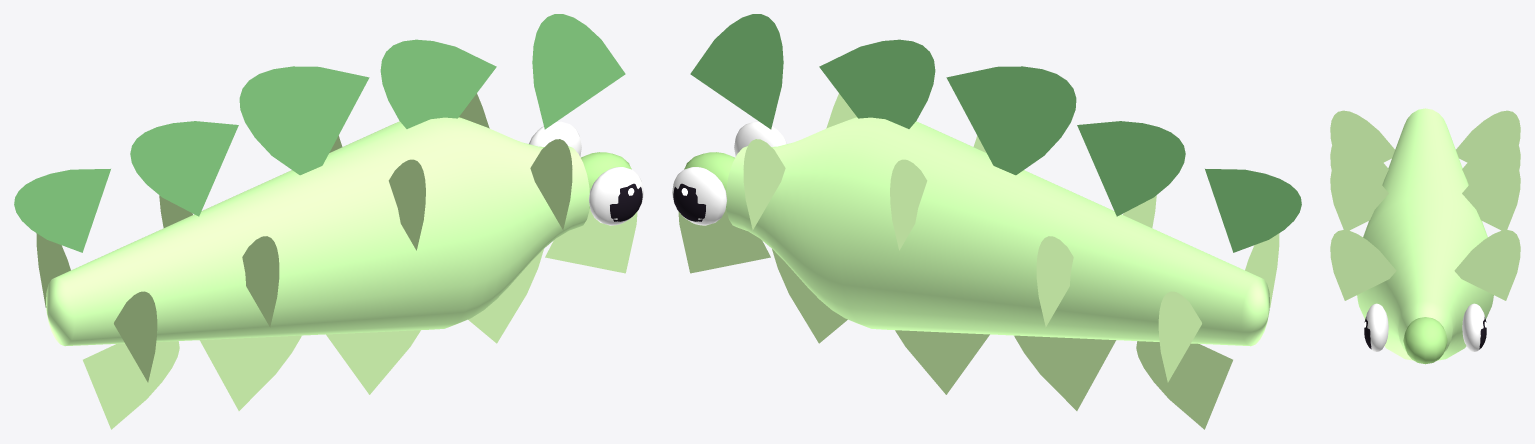
The model's file is sea_dragon.glb.
The picture shows the model from 3 angles, left to right: view 1: azimuth 30°, elevation 25°; view 2: azimuth 150°, elevation 25°; view 3: azimuth 270°, elevation 25°; orthographic projection. The views are drawn at different scales.
Visible parts, largest first — view 1: sea_dragon; view 2: sea_dragon; view 3: sea_dragon.
Part boxes in pixels (left/top/right/bottom): sea_dragon: left=14, top=14, right=643, bottom=429; sea_dragon: left=672, top=14, right=1301, bottom=429; sea_dragon: left=1330, top=108, right=1520, bottom=364.
Bounding box in the file's own units: 1.28 × 0.6839 × 0.4287.
